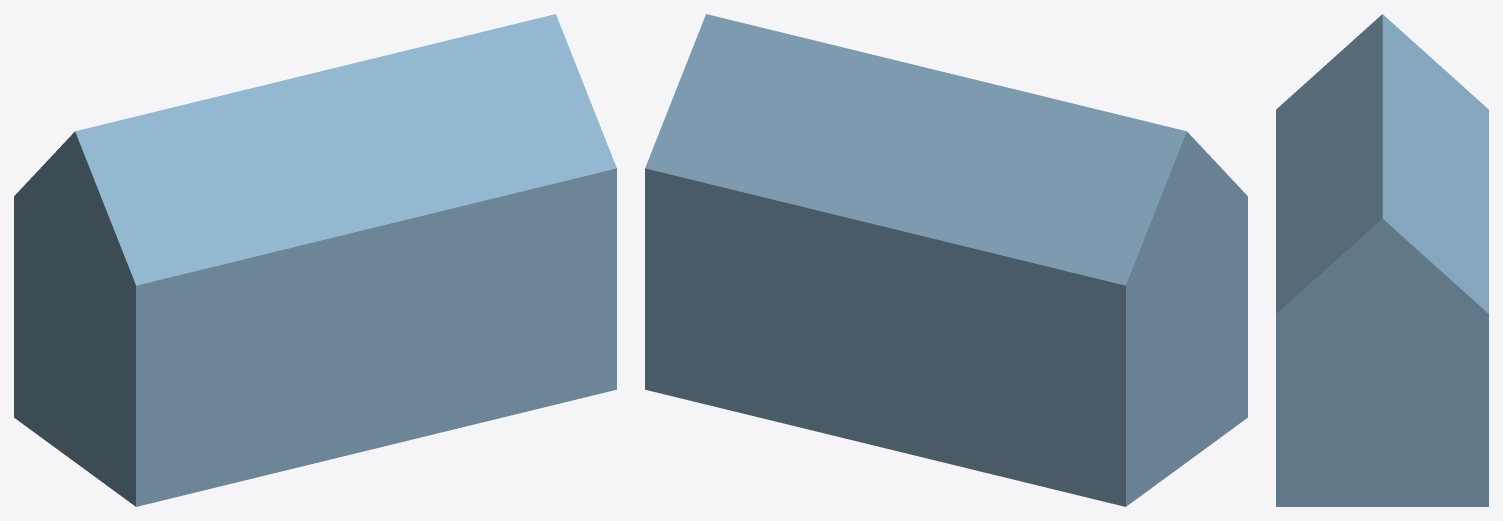
Rendered from House01.fbx.
3 renders of one model, left to right at view 1: azimuth 30°, elevation 25°; view 2: azimuth 150°, elevation 25°; view 3: azimuth 270°, elevation 25°, orthographic. The views are drawn at different scales.
Parts seen in each view (by area): view 1: Cube; view 2: Cube; view 3: Cube.
Part boxes in pixels (<box>): Cube: <box>14,14,616,506</box>; Cube: <box>645,14,1247,506</box>; Cube: <box>1276,14,1488,506</box>.
Size of the model in its own units: 4.55 by 2.99 by 2.
